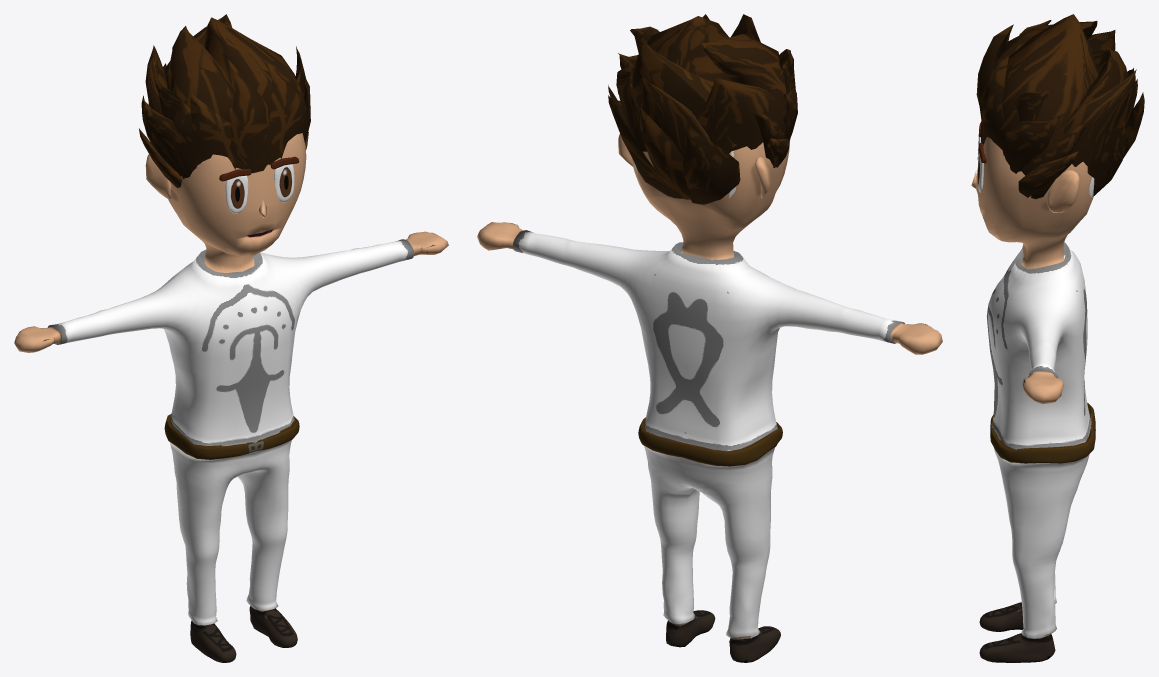
Rendered from MainCharacterModel.fbx.
The picture shows the model from 3 angles, left to right: view 1: azimuth 30°, elevation 25°; view 2: azimuth 150°, elevation 25°; view 3: azimuth 270°, elevation 25°; orthographic projection. The views are drawn at different scales.
Parts seen in each view (by area): view 1: Boneco.001, Cabelo, Boneco.002; view 2: Boneco.001, Cabelo; view 3: Boneco.001, Cabelo, Boneco.003.
Part boxes in pixels (x1,y1,x2,y2): Boneco.001: (14,133,448,662); Cabelo: (139,14,310,187); Boneco.002: (225,164,294,213); Boneco.001: (477,139,942,662); Cabelo: (608,14,797,204); Boneco.001: (971,137,1095,662); Cabelo: (976,14,1144,199); Boneco.003: (1047,170,1079,212).
Size of the model in its own units: 116 by 158 by 39.48.
6 materials, 6 textured.
